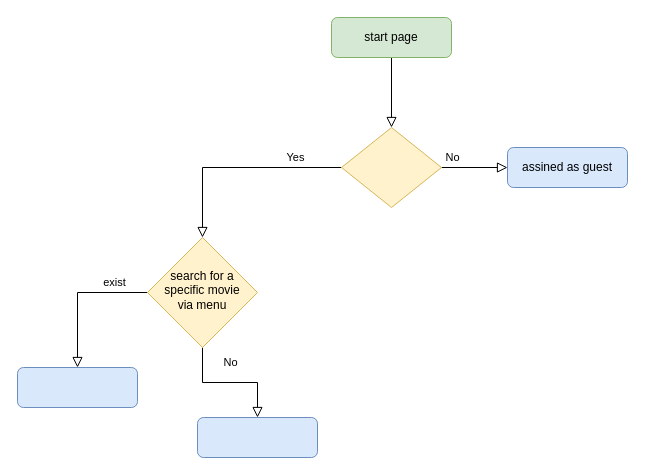
The diagram is 645 pixels wide and 475 high, and some of its shapes have lost their labels. The box of each missing label's shape, as (x1, y1, x2, y2) in pixels:
is logged in?: (340, 126, 442, 208)
show movie trailer: (16, 366, 138, 408)
